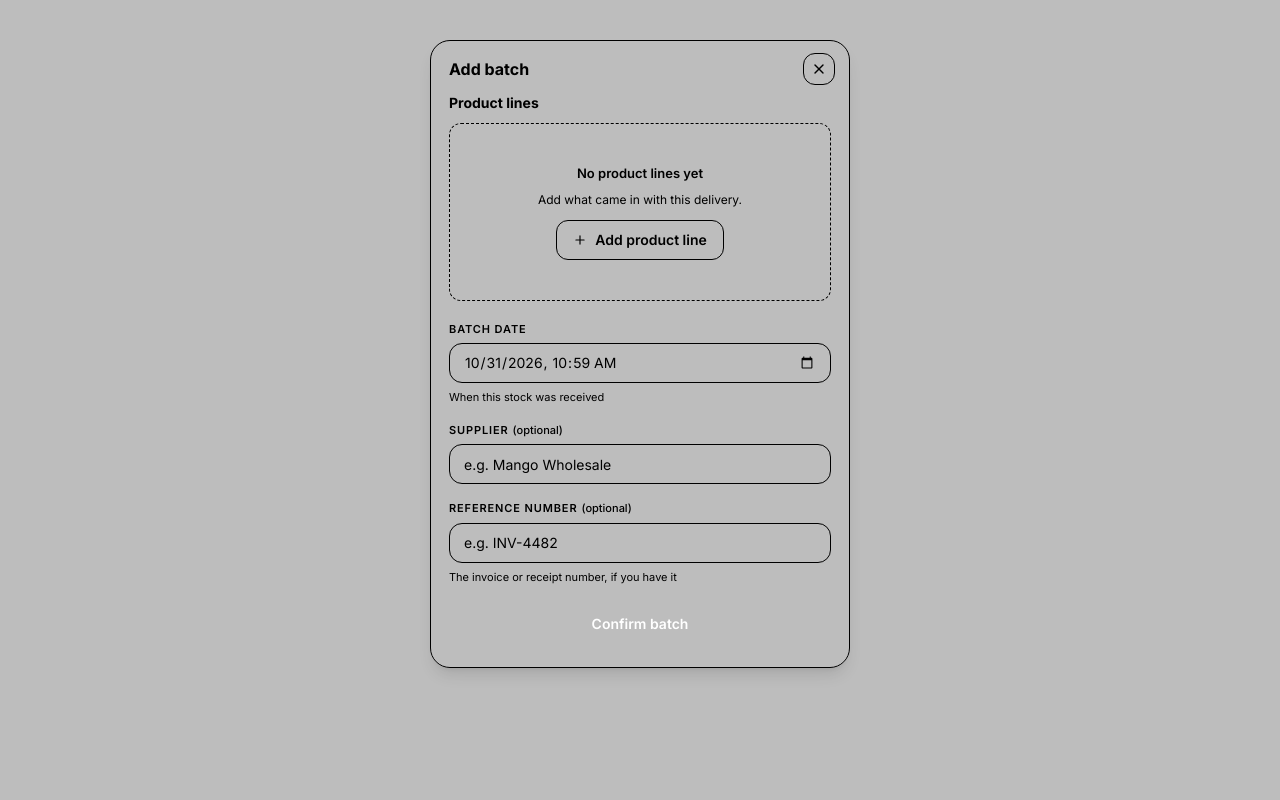
Scenario: AddBatchSheet › shows an error and does not confirm when the batch has no product lines
The width and height of the screenshot is (1280, 800).
Click the button "Confirm batch".
click(640, 624)  # box [449, 605, 831, 643]
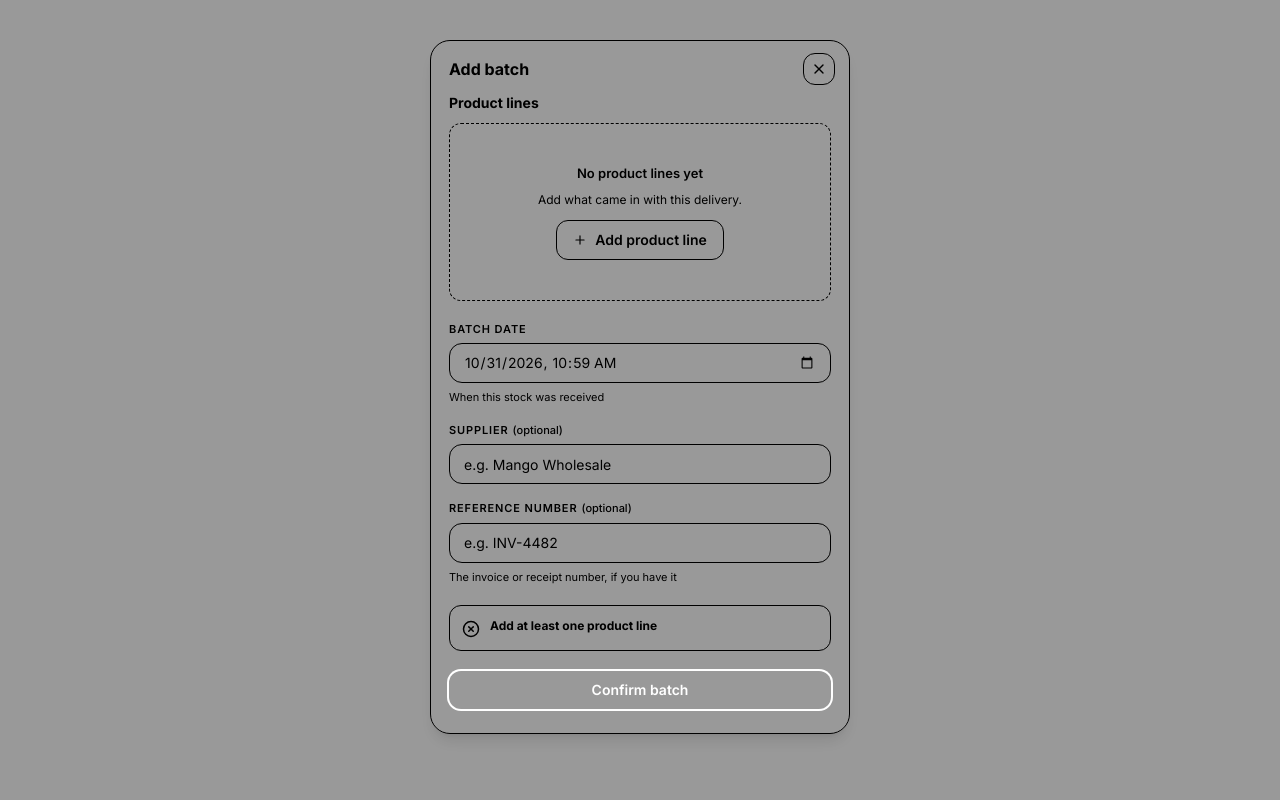
Now the message reads "Add at least one product line", box [490, 618, 657, 633]
